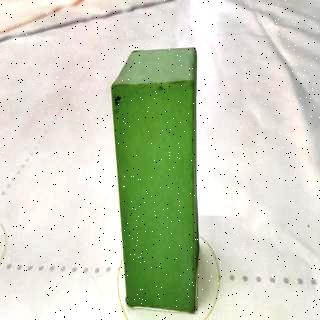greenbox: (110, 48, 197, 312)
